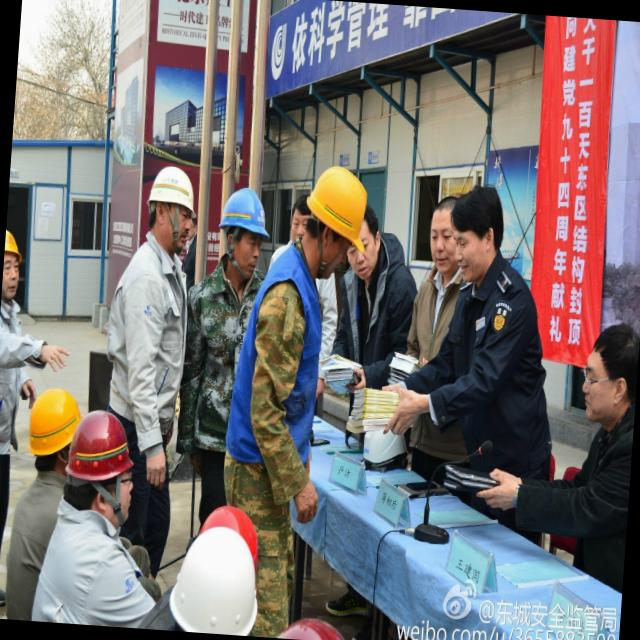helmet: (165, 522, 266, 636), (300, 160, 378, 260), (65, 402, 143, 484), (198, 499, 262, 580), (23, 382, 82, 464), (216, 183, 275, 246), (146, 166, 202, 224), (271, 606, 357, 640), (3, 218, 30, 264)
no-goggles: (450, 232, 490, 260), (428, 224, 454, 249)
no-helmet: (571, 322, 640, 432), (445, 180, 513, 284), (424, 200, 461, 296), (288, 192, 310, 248)
no-vest: (104, 226, 194, 417), (451, 288, 555, 444), (196, 260, 262, 437), (567, 423, 631, 576)
